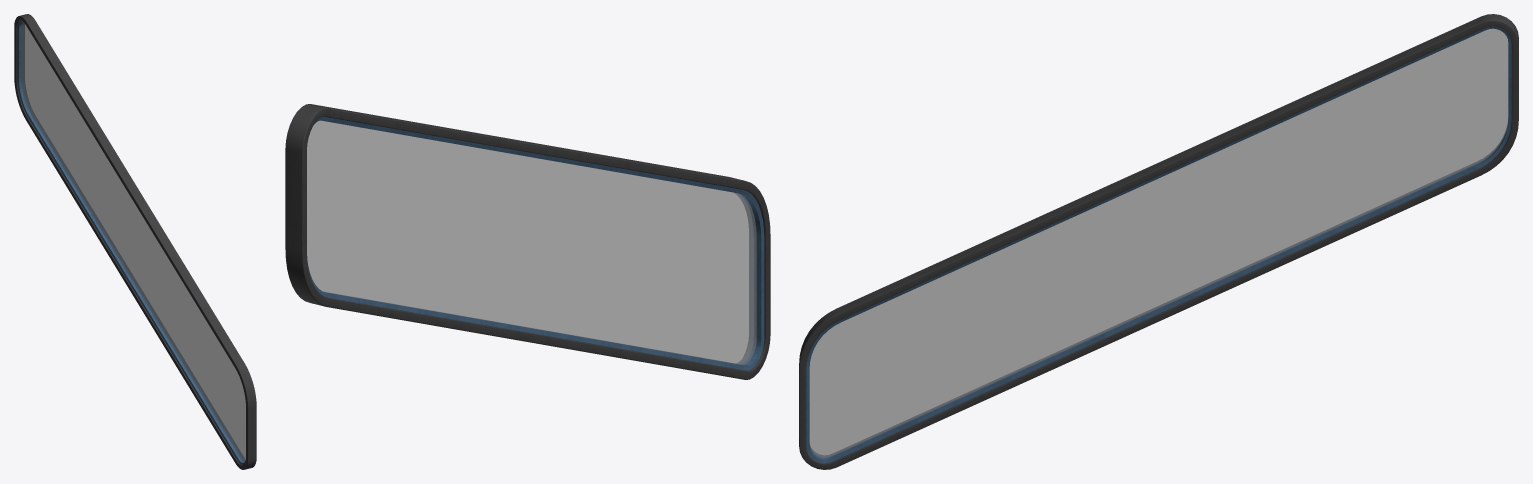
Rendered from Subway_Stairs_Barrier1.fbx.
3 renders of one model, left to right at view 1: azimuth 30°, elevation 25°; view 2: azimuth 150°, elevation 25°; view 3: azimuth 270°, elevation 25°, orthographic. The views are drawn at different scales.
Visible parts, largest first — view 1: polySurface134; view 2: polySurface134; view 3: polySurface134.
Boxes of the visible parts, bbox=[...] form: polySurface134: bbox=[14, 14, 256, 469]; polySurface134: bbox=[285, 104, 770, 379]; polySurface134: bbox=[799, 14, 1518, 469].
Bounding box in the file's own units: 8.78 × 276 × 400.
